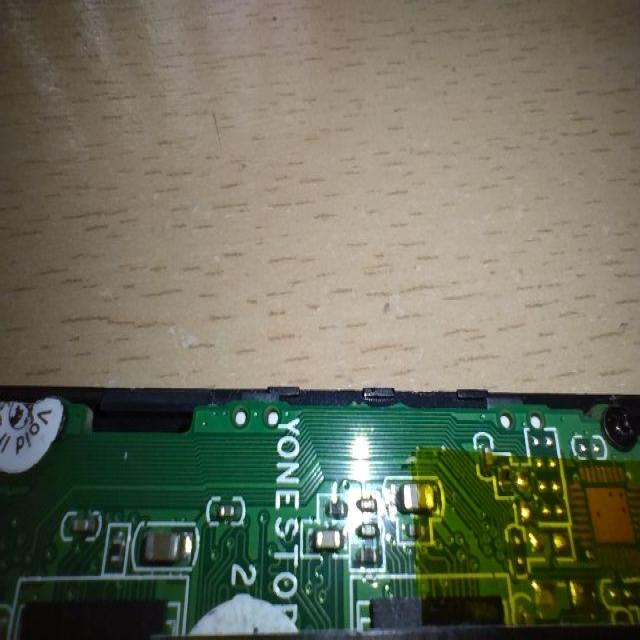capacitor: (126, 500, 201, 564), (382, 471, 449, 516), (300, 519, 357, 565)
